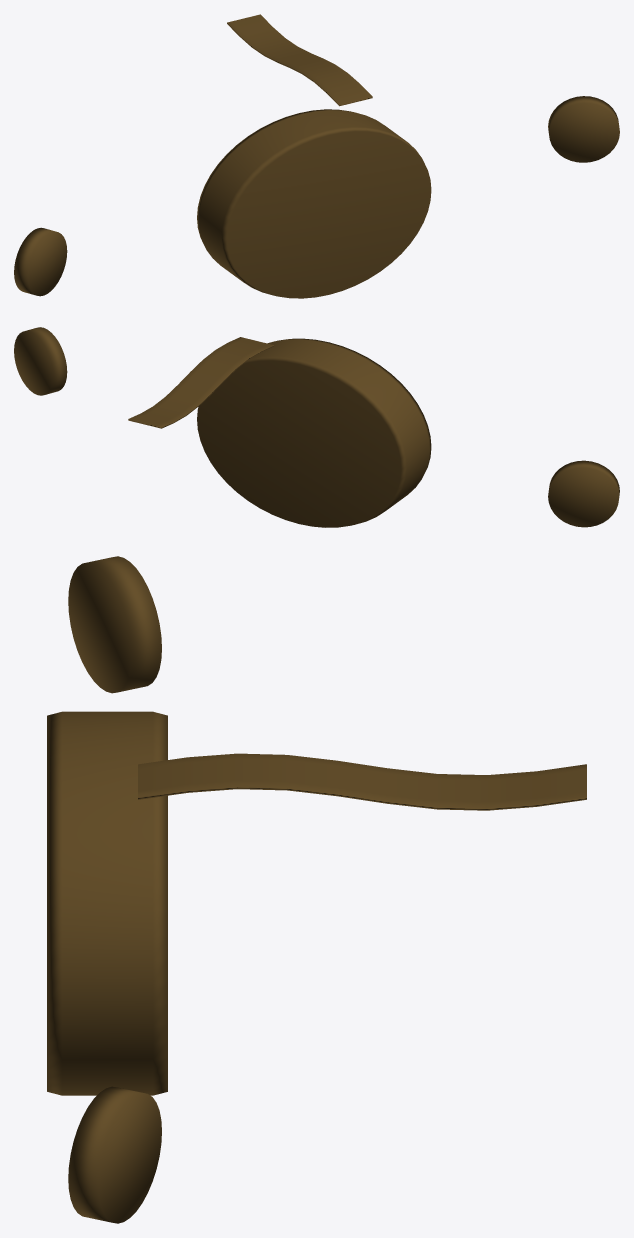
The model's file is SM_PilgrimStudyV1_Trim.obj.
3 views of the same model, one above another, from view 1: azimuth 30°, elevation 25°; view 2: azimuth 150°, elevation 25°; view 3: azimuth 270°, elevation 25° (orthographic). The views are drawn at different scales.
Visible parts, largest first — view 1: WovenWaistSash, SashTail, SleeveCuffR, SleeveCuffL; view 2: WovenWaistSash, SashTail, SleeveCuffL, SleeveCuffR; view 3: WovenWaistSash, SashTail, SleeveCuffL, SleeveCuffR.
Part boxes in pixels (bbox=[...]): WovenWaistSash: bbox=[197, 109, 431, 298]; SashTail: bbox=[227, 14, 372, 106]; SleeveCuffR: bbox=[548, 96, 619, 162]; SleeveCuffL: bbox=[14, 227, 67, 296]; WovenWaistSash: bbox=[197, 338, 431, 527]; SashTail: bbox=[128, 337, 273, 428]; SleeveCuffL: bbox=[548, 460, 619, 527]; SleeveCuffR: bbox=[14, 327, 67, 395]; WovenWaistSash: bbox=[47, 711, 167, 1095]; SashTail: bbox=[138, 753, 586, 810]; SleeveCuffL: bbox=[68, 556, 161, 693]; SleeveCuffR: bbox=[68, 1086, 161, 1223].
Bounding box in the file's own units: 92.41 × 25.19 × 35.7.
